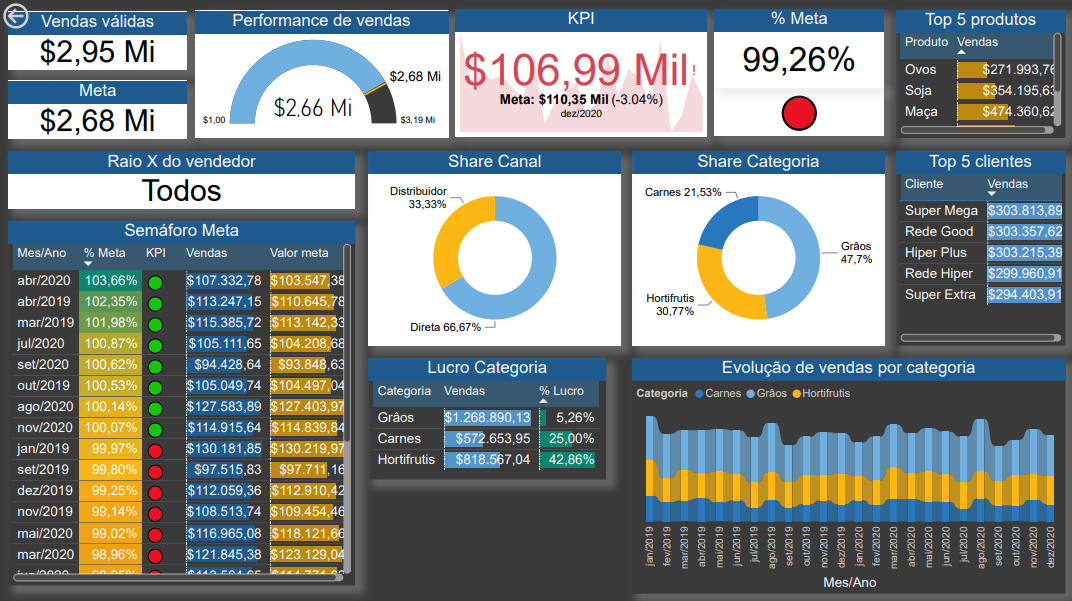

The page's visual inventory and layout, read from the dashboard file:
{"tool":"powerbi","page":{"name":"Raixo X Vendedor","canvas":[1280,720],"ordinal":1},"visuals":[{"type":"card","title":"Vendas válidas","fields":{"Values":["_Medidas.Vendas_validas"]},"box":[11.1,15.2,213.1,69.2],"z":0},{"type":"card","title":"Vendas válidas","fields":{"Values":["_Medidas.KPI"]},"box":[852.4,105.3,202,58],"z":0,"group":"g1"},{"type":"card","title":"% Meta","fields":{"Values":["_Medidas.% Meta"]},"box":[852.4,12.5,202,92.8],"z":1000,"group":"g1"},{"type":"card","title":"Meta","fields":{"Values":["_Medidas.Valor meta"]},"box":[11.1,96.9,213.1,69.2],"z":1000},{"type":"gauge","title":"Performance de vendas","fields":{"MaxValue":["_Medidas.Val max"],"TargetValue":["_Medidas.Valor meta"],"Y":["_Medidas.Vendas C/ Vnd"]},"box":[233.4,14.1,301.3,151.3],"z":2000},{"type":"kpi","title":"KPI","fields":{"Goal":["_Medidas.Valor meta"],"Indicator":["_Medidas.Vendas C/ Vnd"],"TrendLine":["D_Calendario.Mes/Ano"]},"box":[543.8,12.5,298.9,150.8],"z":3000},{"type":"group","id":"g1","title":"Grupo 1","box":[852.4,12.5,202,150.8],"z":4000},{"type":"tableEx","title":"Semáforo Meta","fields":{"Values":["D_Calendario.Mes/Ano","_Medidas.% Meta","_Medidas.KPI","_Medidas.Vendas C/ Vnd","_Medidas.Valor meta"]},"box":[11.3,264.5,413,432.8],"z":7000},{"type":"tableEx","title":"Lucro Categoria","fields":{"Values":["D_categoria.Nome_Categoria","_Medidas.Vendas_validas","_Medidas.% Lucro"]},"box":[439.9,427.1,282.9,144.3],"z":8000},{"type":"actionButton","box":[0,0,100,40],"z":9000},{"type":"donutChart","title":"Share Categoria","fields":{"Category":["D_categoria.Nome_Categoria"],"Y":["_Medidas.Vendas_validas"]},"box":[753.9,181,301.3,230.5],"z":10000},{"type":"donutChart","title":"Share Canal","fields":{"Y":["_Medidas.Vendas_validas"],"Category":["D_Canal_vendas.Desc_Canal_vendas"]},"box":[439.9,181,301.3,230.5],"z":11000},{"type":"tableEx","title":"Top 5 clientes","fields":{"Values":["D_Clientes.Nome_Cliente","_Medidas.Vendas_validas"]},"box":[1067.8,181,202.3,230.5],"z":12000},{"type":"tableEx","title":"Top 5 produtos","fields":{"Values":["D_Produto.Nome_produto","_Medidas.Vendas_validas"]},"box":[1067.8,12.7,202.3,152.8],"z":13000},{"type":"ribbonChart","title":"Evolução de vendas por categoria","fields":{"Y":["_Medidas.Vendas_validas"],"Series":["D_categoria.Nome_Categoria"],"Category":["D_Calendario.Mes/Ano"]},"box":[753.9,427.1,516.2,280],"z":15000},{"type":"card","title":"Raio X do vendedor","fields":{"Values":["_Medidas.VendedorX"]},"box":[11.3,181,413,67.9],"z":15001}]}

Visuals, with their boxes in screenshot pixels (x1, y1, x2, y2), scaled from the page's 1280x720 canvas onto the 1072x601 screenshot:
"Vendas válidas" card: bbox=[9, 13, 188, 70]
"Vendas válidas" card: bbox=[714, 88, 883, 136]
"% Meta" card: bbox=[714, 10, 883, 88]
"Meta" card: bbox=[9, 81, 188, 139]
"Performance de vendas" gauge: bbox=[195, 12, 448, 138]
"KPI" kpi: bbox=[455, 10, 706, 136]
"Grupo 1" group: bbox=[714, 10, 883, 136]
"Semáforo Meta" tableEx: bbox=[9, 221, 355, 582]
"Lucro Categoria" tableEx: bbox=[368, 357, 605, 477]
actionButton: bbox=[0, 0, 84, 33]
"Share Categoria" donutChart: bbox=[631, 151, 884, 343]
"Share Canal" donutChart: bbox=[368, 151, 621, 343]
"Top 5 clientes" tableEx: bbox=[894, 151, 1064, 343]
"Top 5 produtos" tableEx: bbox=[894, 11, 1064, 138]
"Evolução de vendas por categoria" ribbonChart: bbox=[631, 357, 1064, 590]
"Raio X do vendedor" card: bbox=[9, 151, 355, 208]
